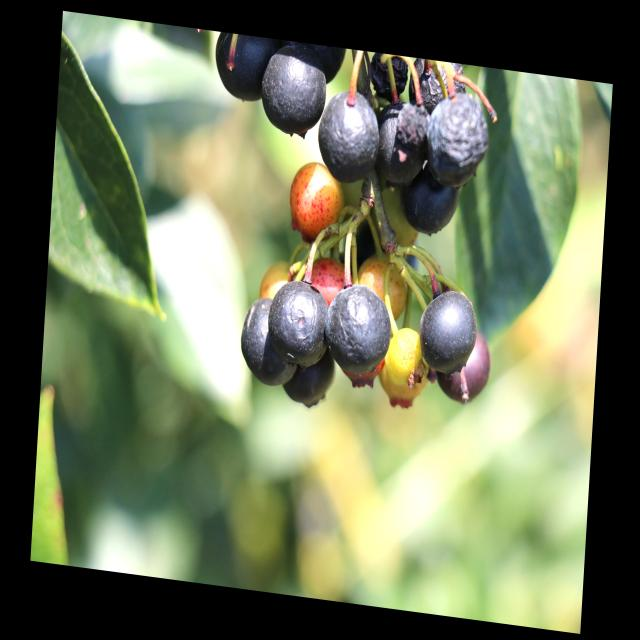blueberry: (258, 45, 327, 139), (316, 88, 381, 184), (323, 286, 391, 375), (267, 277, 330, 368), (238, 298, 298, 389), (427, 94, 489, 178), (418, 286, 477, 371), (437, 327, 494, 410), (401, 161, 460, 238), (372, 98, 427, 180), (213, 32, 272, 104), (288, 349, 336, 415)
blueberry-halfripe: (285, 151, 345, 241)
blueberry-unripe: (357, 252, 410, 324), (382, 322, 424, 392)
